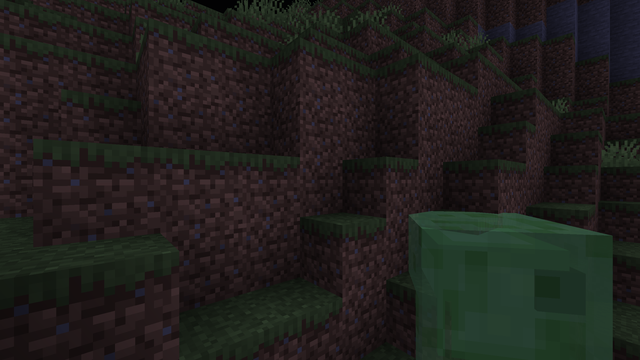slimes: (382, 205, 578, 358)
